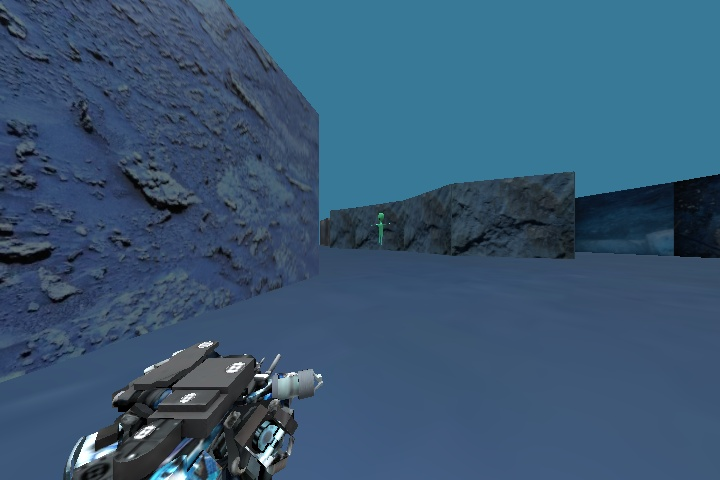green_alien: (366, 209, 394, 253)
